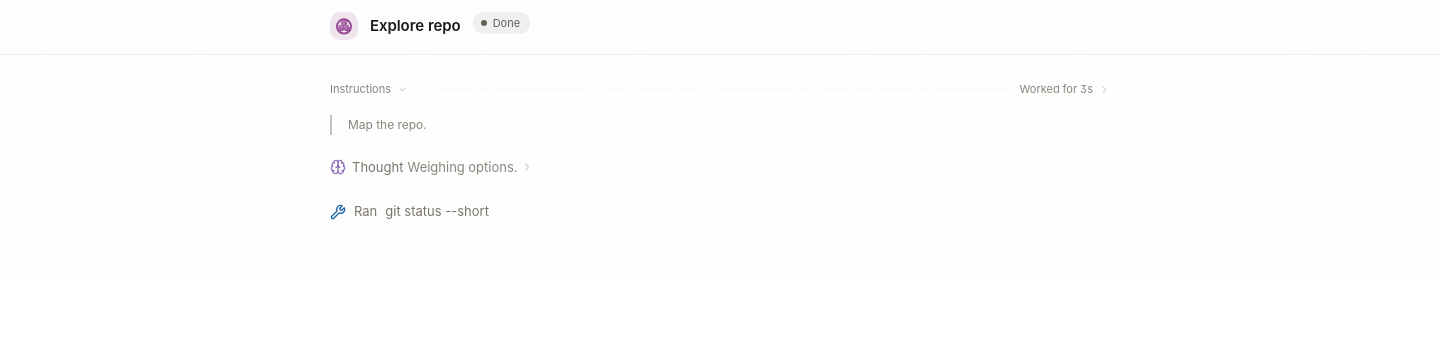
Test: AgentActivity › folds tools independently of collapsed thoughts from the run's chip
This screenshot has width=1440, height=347.
Expected: the button "Ran git status --short" is shown, [330, 197, 1110, 227]
Expected: the text "clean" is not shown
Click the button "Worked for 3s": (1065, 89) [1020, 81, 1110, 97]
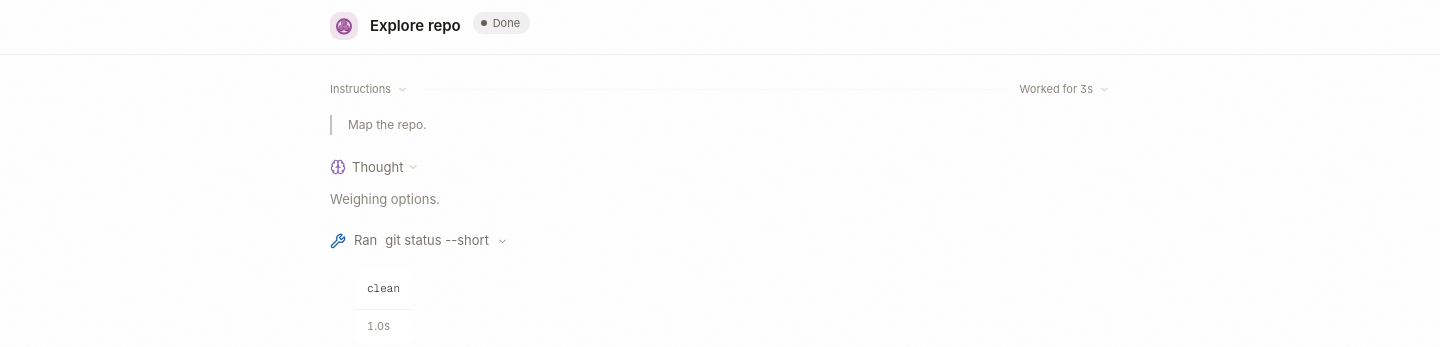
Expected: the text "Weighing options." is shown, [330, 191, 440, 207]
Expected: the button "Worked for 3s" is expanded
Expected: the text "clean" is shown, [367, 281, 400, 295]
Click the button "Worked for 3s": (1065, 89) [1020, 81, 1110, 97]
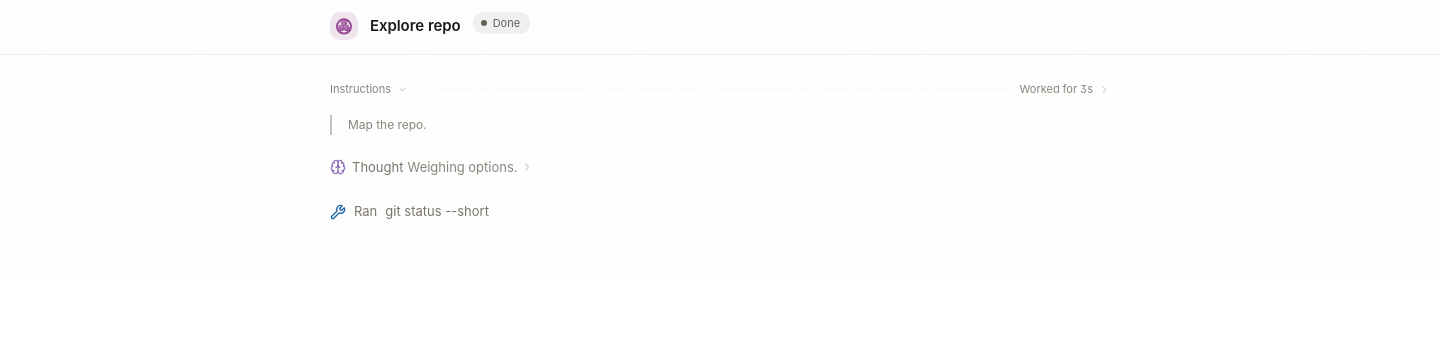
Expected: the button "Ran git status --short" is shown, [330, 197, 1110, 227]
Expected: the text "clean" is gone
Expected: the text "Weighing options." is shown once, [408, 158, 517, 176]
